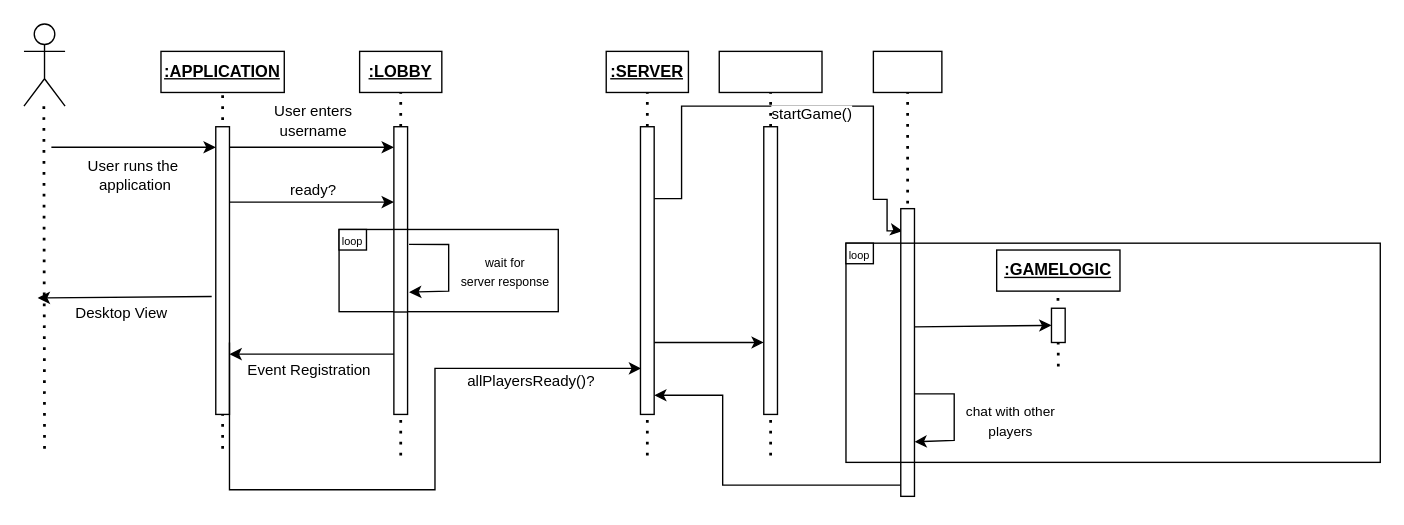
Image size: 1404x525. Some labels were removed from this diagram. The shapes that lost their labels are listed below. From the top down, each one's box as (x1, y1, x2, y2) in pixels, then its label:
(718, 50, 822, 92): :ROLE SELECTOR
(872, 50, 942, 92): :GAME ROOM
